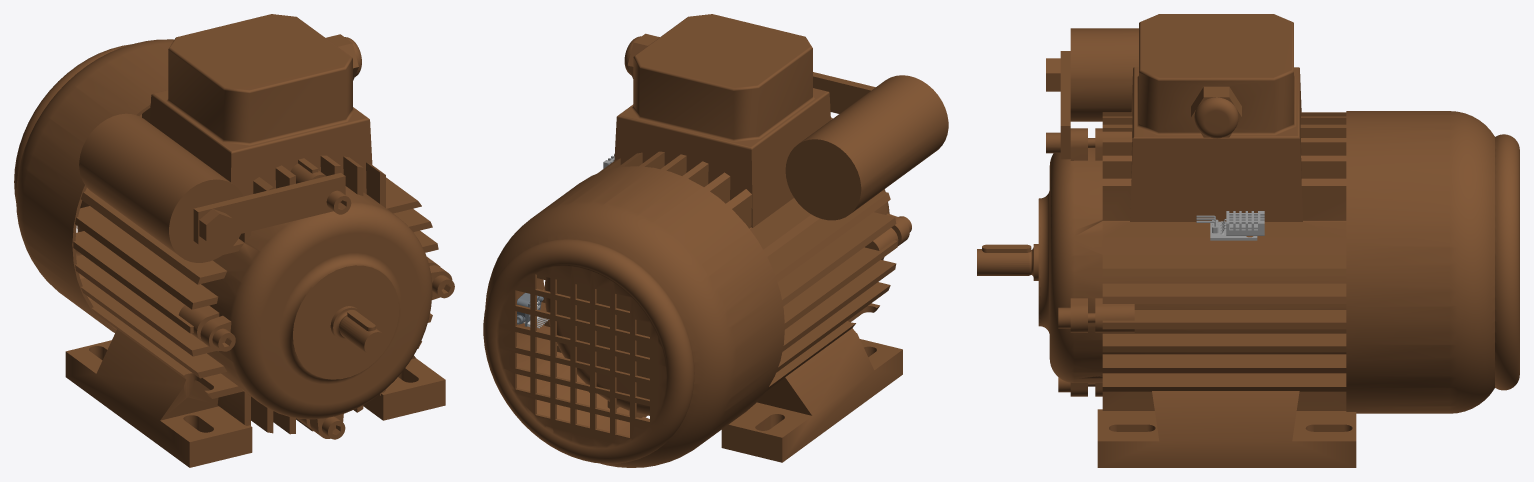
The model's file is motor.glb.
3 renders of one model, left to right at view 1: azimuth 30°, elevation 25°; view 2: azimuth 150°, elevation 25°; view 3: azimuth 270°, elevation 25°, orthographic. The views are drawn at different scales.
Visible parts, largest first — view 1: Object_2; view 2: Object_2, empty_2; view 3: Object_2, empty_2.001.
Part boxes in pixels (box(x1,y1,x2,y2)): Object_2: box(14, 14, 454, 467); Object_2: box(483, 14, 948, 467); empty_2: box(517, 292, 549, 328); Object_2: box(977, 14, 1519, 467); empty_2.001: box(1196, 211, 1264, 240).
Size of the model in its own units: 2.1 by 2.37 by 3.27.
Materials: 49 (1 with a texture image).
